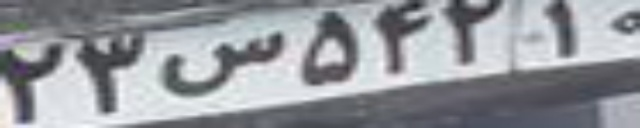0: (606, 10, 638, 34)
1: (541, 0, 575, 57)
2: (0, 41, 63, 124), (446, 0, 505, 64)
3: (73, 31, 144, 113)
4: (373, 1, 430, 72)
5: (299, 10, 357, 86)
sin: (158, 29, 285, 97)
